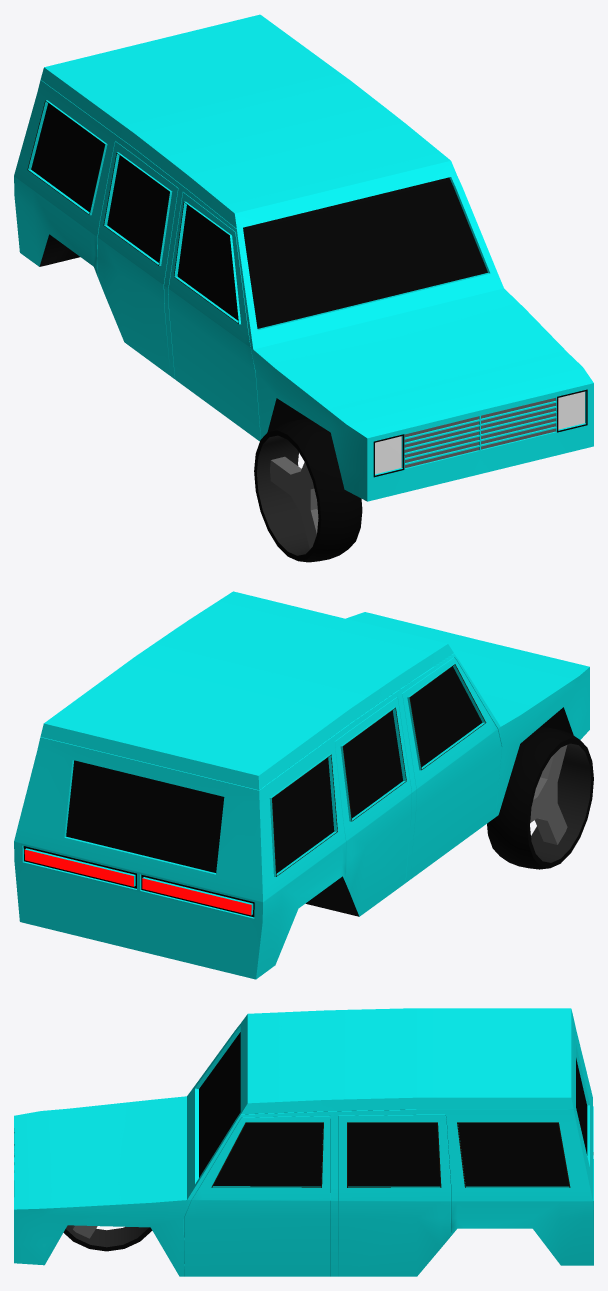
Rendered from Vehicle 1_M_V1_Raghu.fbx.
The picture shows the model from 3 angles, top to bottom: view 1: azimuth 30°, elevation 25°; view 2: azimuth 150°, elevation 25°; view 3: azimuth 270°, elevation 25°; orthographic projection. The views are drawn at different scales.
Parts seen in each view (by area): view 1: Box002, Tube002; view 2: Box002, Tube002; view 3: Box002, Tube002.
Part boxes in pixels (left/top/right/bottom): Box002: left=14, top=14, right=593, bottom=501; Tube002: left=254, top=419, right=362, bottom=562; Box002: left=14, top=591, right=589, bottom=979; Tube002: left=487, top=727, right=593, bottom=869; Box002: left=14, top=1008, right=593, bottom=1276; Tube002: left=63, top=1225, right=152, bottom=1251.
Size of the model in its own units: 811 by 840 by 1819.
